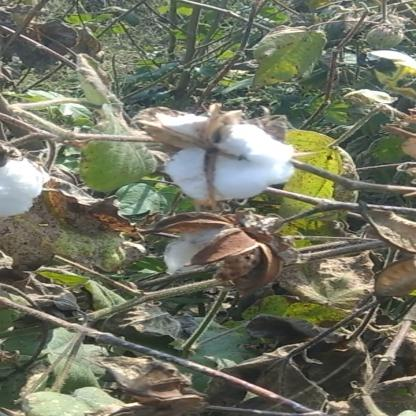cotton_ready: (125, 96, 303, 217)
